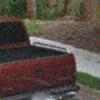cars: (0, 19, 82, 100)
